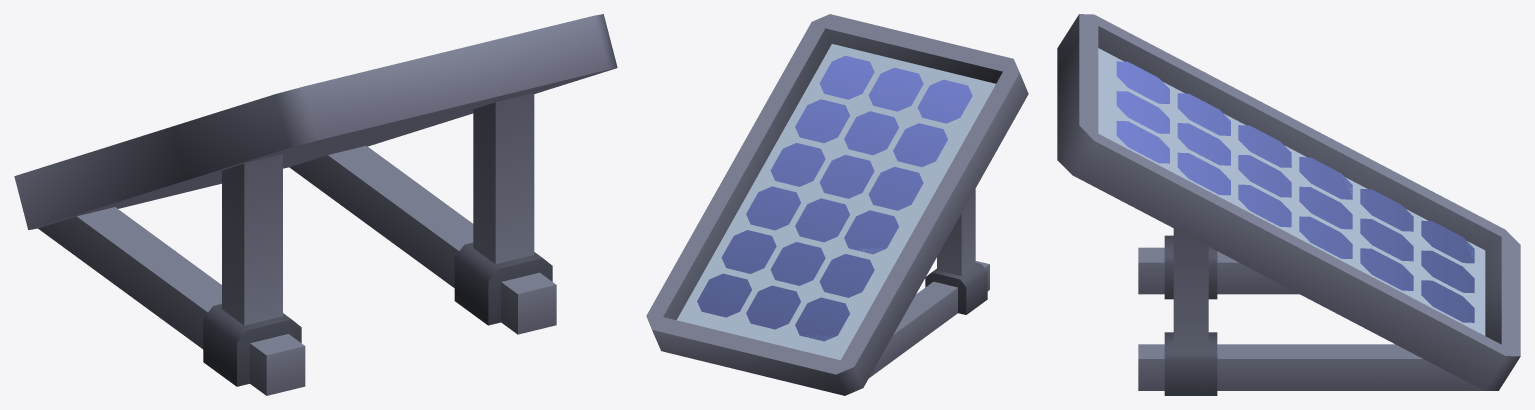
The model's file is solar-panel-portrait.glb.
3 renders of one model, left to right at view 1: azimuth 30°, elevation 25°; view 2: azimuth 150°, elevation 25°; view 3: azimuth 270°, elevation 25°, orthographic. The views are drawn at different scales.
Parts seen in each view (by area): view 1: solar-panel-portrait; view 2: solar-panel-portrait; view 3: solar-panel-portrait.
Boxes of the visible parts, left/top/right/bottom form: solar-panel-portrait: left=14, top=14, right=617, bottom=395; solar-panel-portrait: left=646, top=14, right=1028, bottom=395; solar-panel-portrait: left=1057, top=14, right=1520, bottom=395.
Bounding box in the file's own units: 0.4182 × 0.41 × 0.6486.
1 material, 1 textured.
